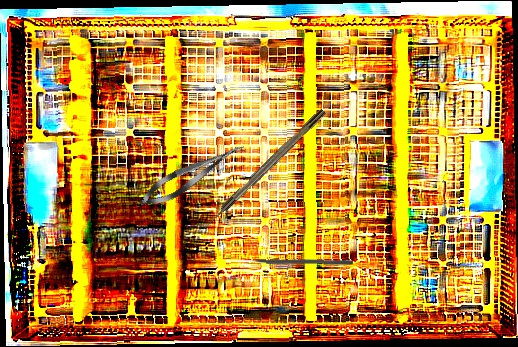Hook Surgical: (199, 108, 328, 232)
Micro Scissor: (134, 135, 250, 215)
Pusher: (236, 256, 354, 266)
